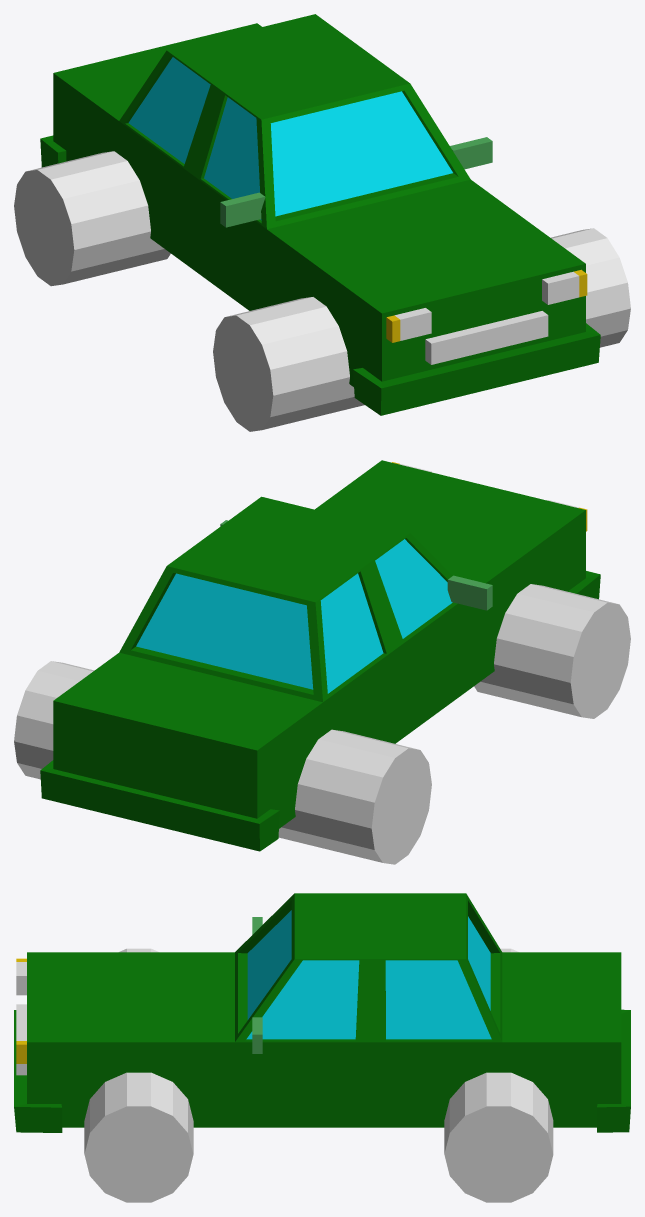
File: car green.fbx
3 renders of one model, top to bottom at view 1: azimuth 30°, elevation 25°; view 2: azimuth 150°, elevation 25°; view 3: azimuth 270°, elevation 25°, orthographic. The views are drawn at different scales.
Parts seen in each view (by area): view 1: Cube, Cylinder.001, Cylinder.002, Cube.003, Cube.001, Cube.002; view 2: Cube, Cylinder.002, Cylinder.001, Cube.002; view 3: Cube, Cylinder.001, Cylinder.002, Cube.001, Cube.002.
Part boxes in pixels (x1=…): Cube: x1=40, y1=14, x2=600, y2=415; Cylinder.001: x1=213, y1=228, x2=630, y2=431; Cylinder.002: x1=14, y1=151, x2=170, y2=286; Cube.003: x1=425, y1=311, x2=548, y2=364; Cube.001: x1=386, y1=269, x2=587, y2=342; Cube.002: x1=220, y1=137, x2=492, y2=227; Cube: x1=40, y1=460, x2=600, y2=851; Cylinder.002: x1=14, y1=661, x2=431, y2=864; Cylinder.001: x1=474, y1=584, x2=630, y2=718; Cube.002: x1=220, y1=520, x2=492, y2=610; Cube: x1=14, y1=893, x2=630, y2=1132; Cylinder.001: x1=84, y1=948, x2=193, y2=1202; Cylinder.002: x1=444, y1=948, x2=553, y2=1202; Cube.001: x1=16, y1=958, x2=26, y2=1063; Cube.002: x1=252, y1=917, x2=262, y2=1053.
Bounding box in the file's own units: 685 × 400 × 1131.
